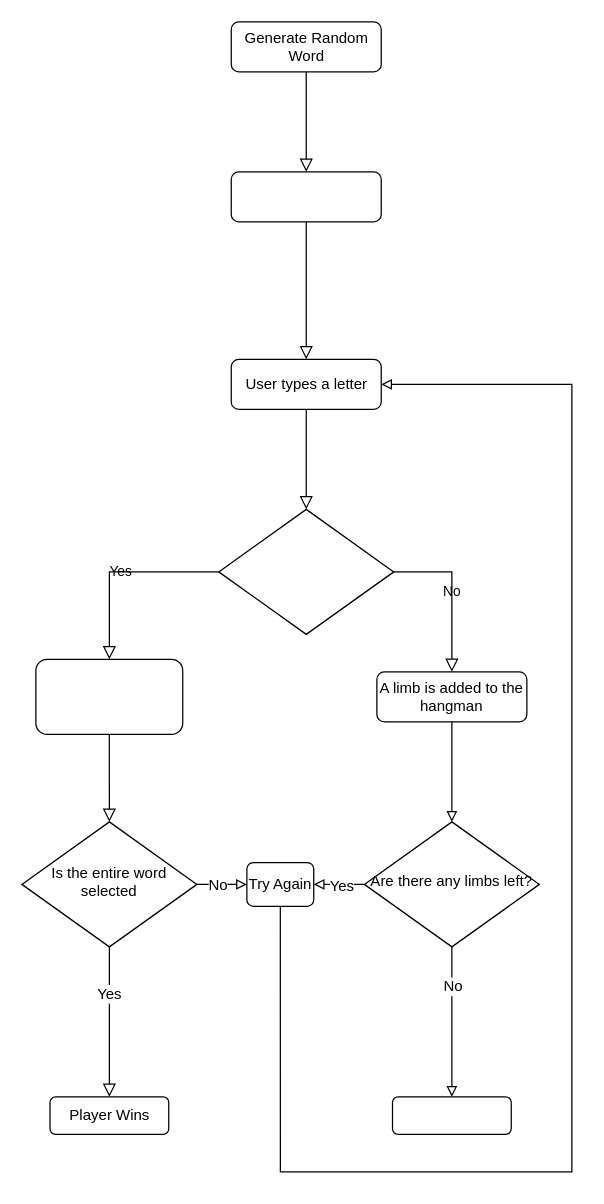
The diagram is 604 pixels wide and 1204 high, and some of its shapes have lost their labels. Here are the shapes that lost their labels. From the top down, the centre of each, then its label:
pixel 305 196: Display placeholders for the letters of the word
pixel 306 571: is the letter included in the word?
pixel 109 696: The typed letter is displayed in the placeholder
pixel 451 1115: Player Loses
